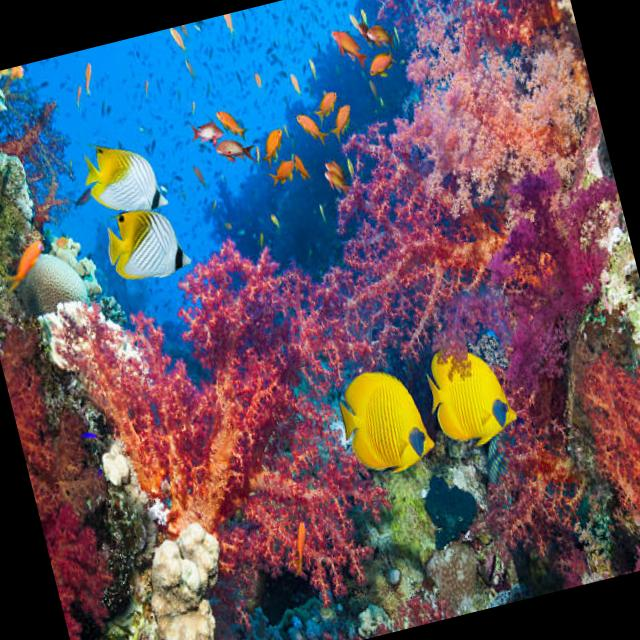ButterflyFish: (332, 356, 438, 482), (421, 338, 522, 462), (98, 201, 192, 291), (80, 128, 168, 221)
